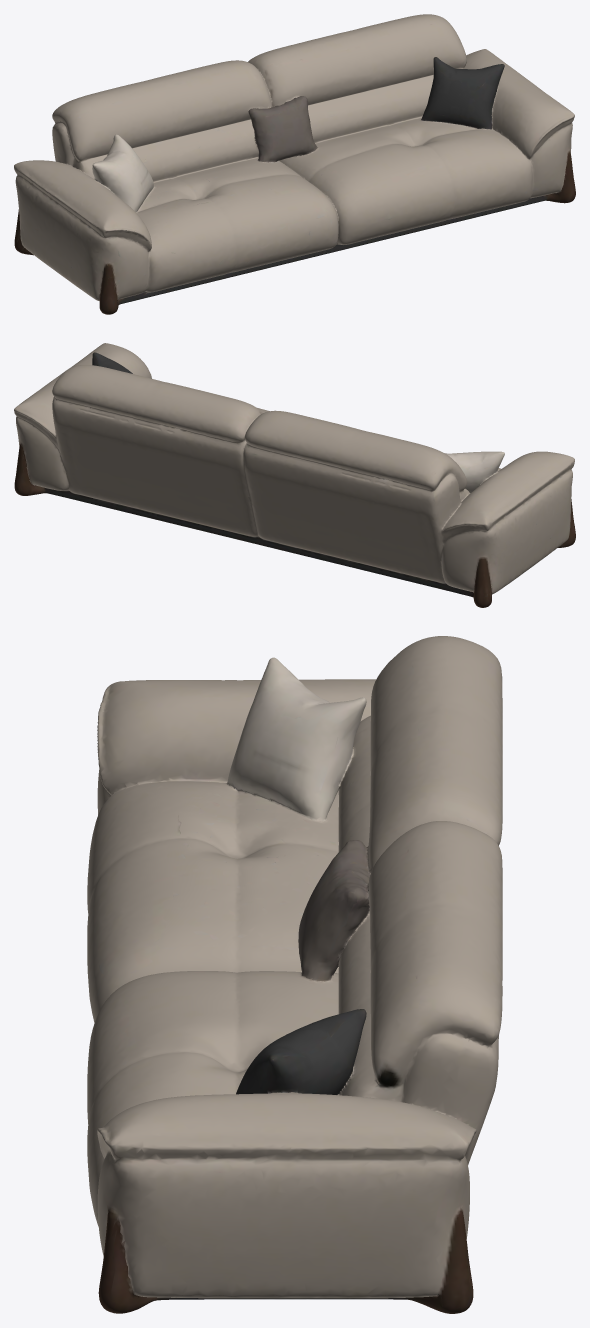
Rendered from Contemporary Upholstered Sofa with Wood Legs [teSDy7].glb.
3 views of the same model, one above another, from view 1: azimuth 30°, elevation 25°; view 2: azimuth 150°, elevation 25°; view 3: azimuth 270°, elevation 25° (orthographic). The views are drawn at different scales.
Visible parts, largest first — view 1: world; view 2: world; view 3: world.
Boxes of the visible parts, x1,y1,x2,y2 form: world: (14,14,575,314); world: (14,343,575,607); world: (87,636,502,1313).
Bounding box in the file's own units: 1 × 0.2798 × 0.3746.
Materials: 1 (1 with a texture image).
